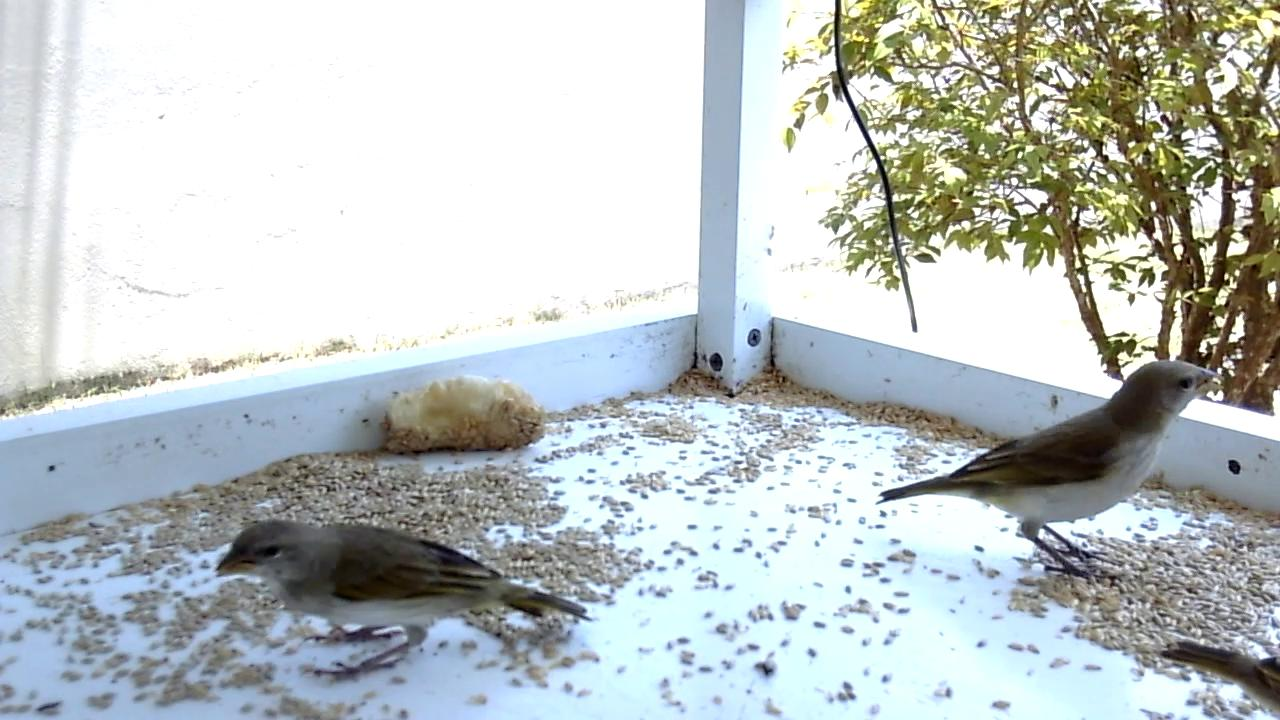canario_do_amazonas: (875, 360, 1228, 584), (213, 518, 596, 686), (1158, 639, 1280, 720)
